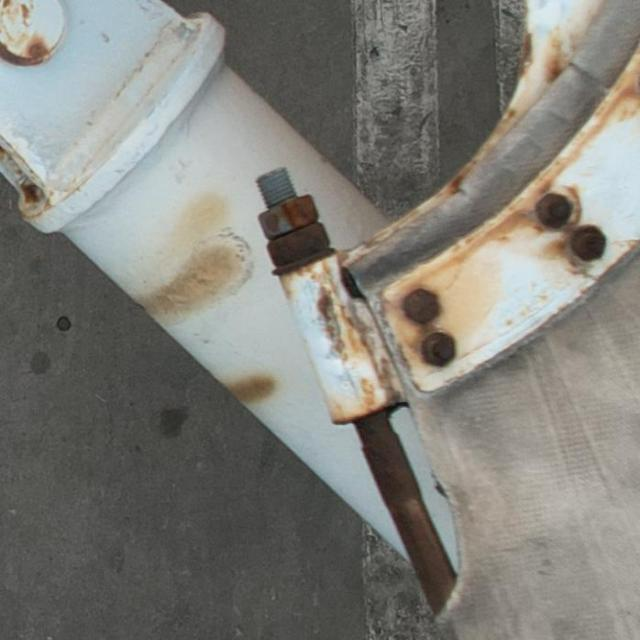blur bolt: (567, 224, 607, 260), (403, 288, 440, 326), (536, 193, 572, 229), (421, 331, 455, 368)
bolt side: (257, 192, 319, 241)
